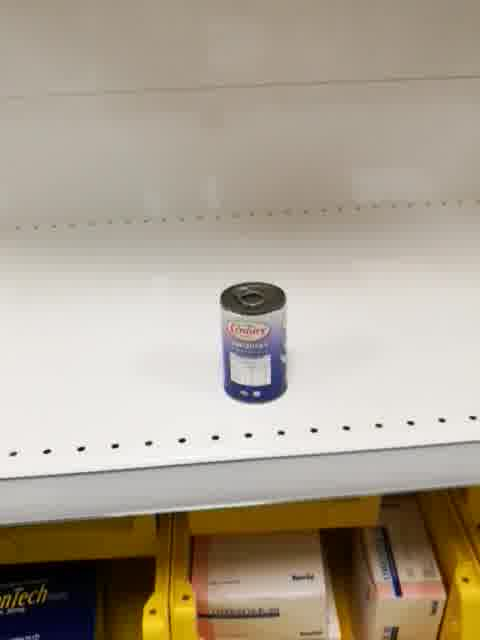sardine: (219, 280, 290, 405)
